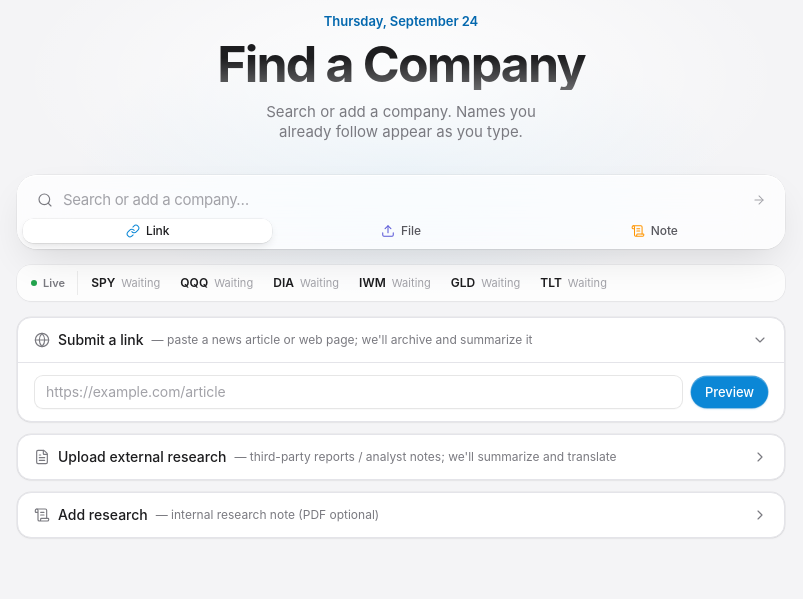
Test case: HomeView M1 layout and search › shows unresolved Quick Add assignment confirmation for submitted links
Type "https://example.com/research" into the field with placeholder "https://example.com/article" at (359, 392), box [34,375,683,409]
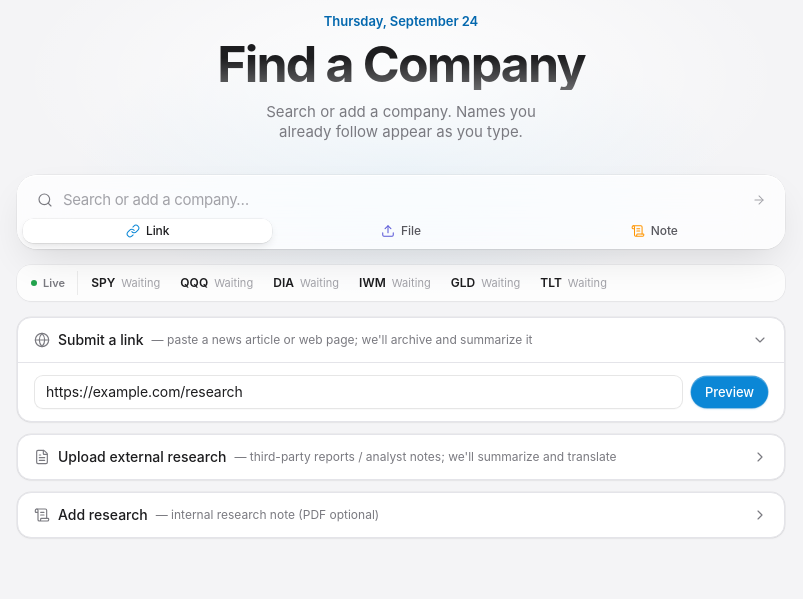
Submit the form "Preview", box [34,375,768,409]
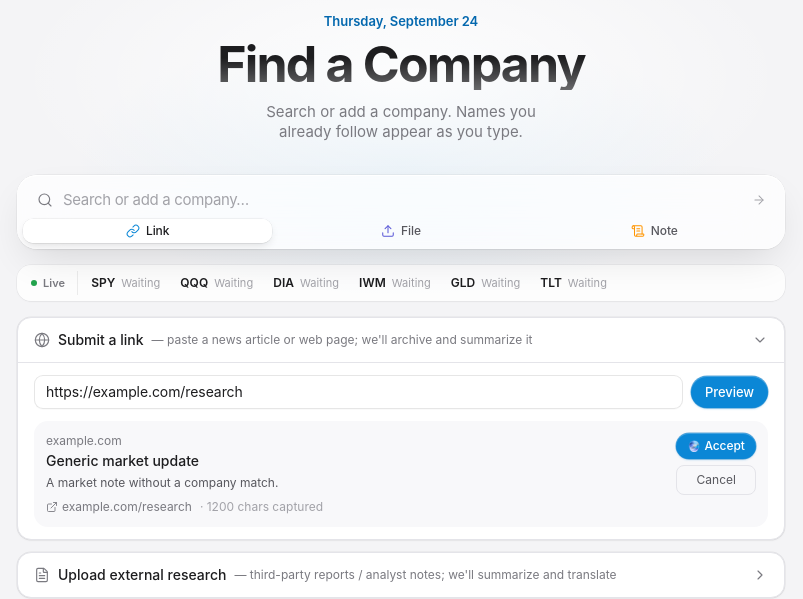
Click the button "Accept" at (716, 446), box [676,433,756,459]
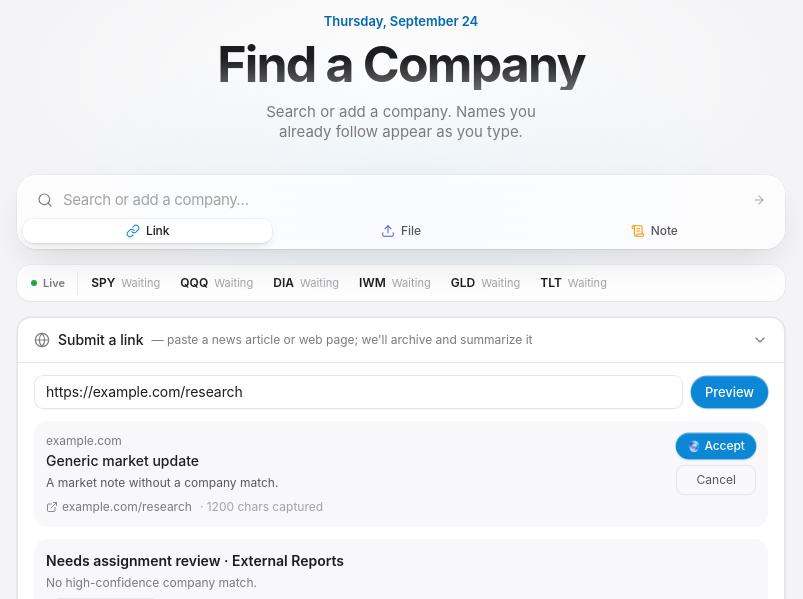
Expected: the text "Needs assignment review" is shown, [46,552,344,569]
Expected: the text "External Reports" is shown, [46,552,344,569]
Expected: the text "No high-confidence company match." is shown, [46,575,257,590]
